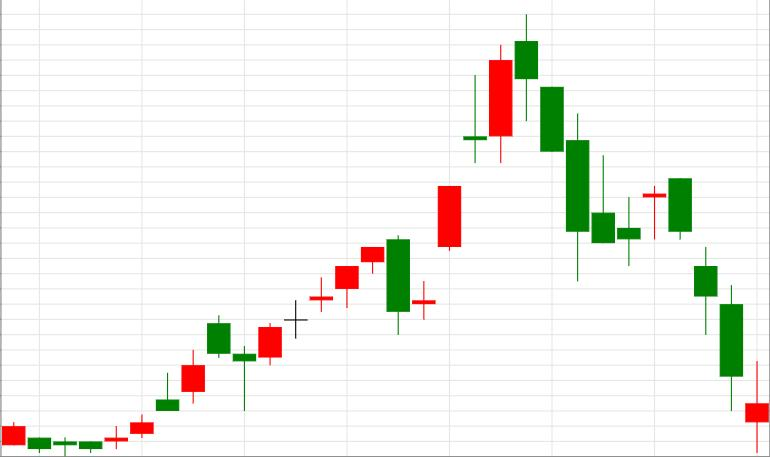bearish_engulfing_fall: (259, 236, 410, 364)
inverse_hammer_rise: (514, 15, 615, 281)
